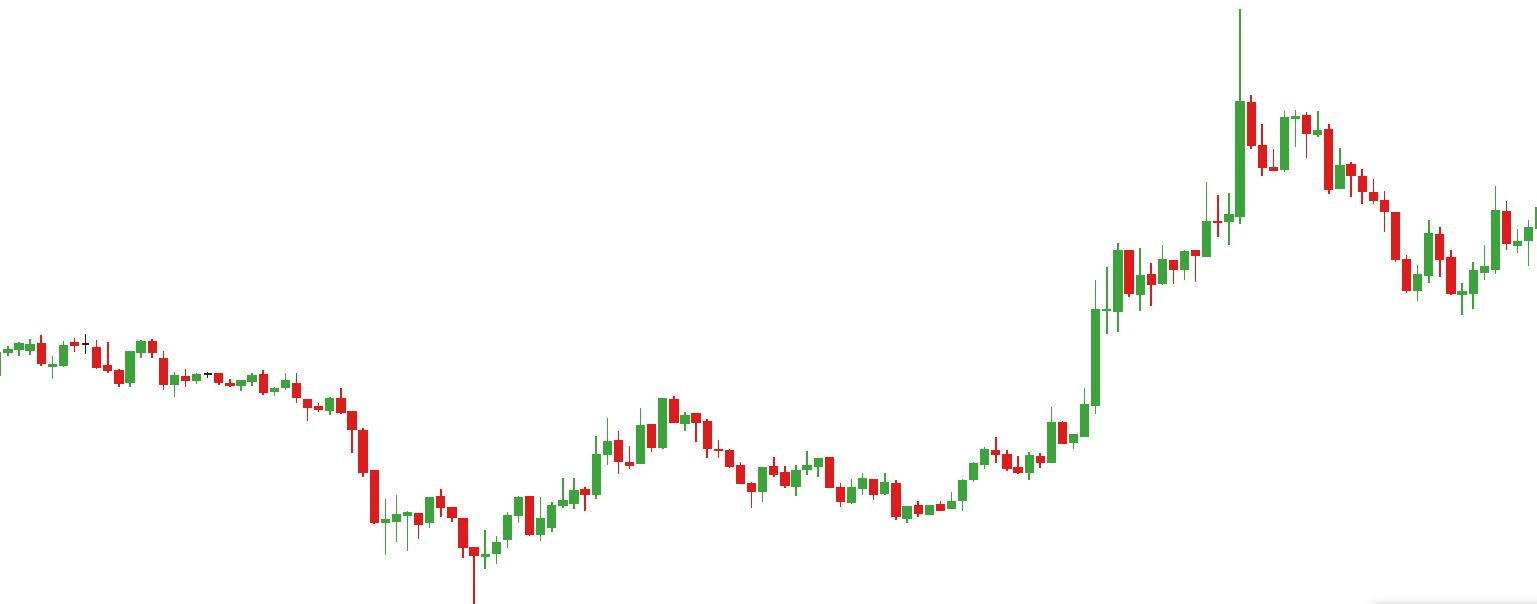buy: (382, 504, 501, 604)
